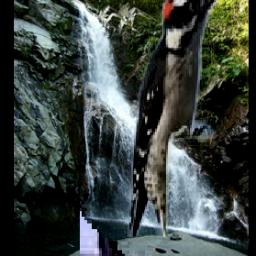Crow: (79, 0, 157, 256)
Woodpecker: (128, 0, 223, 238)
